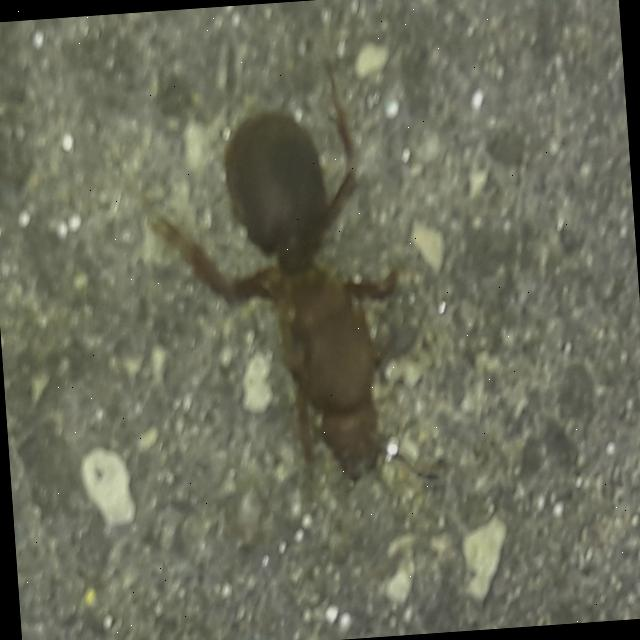Alive-Female-Dealate: (134, 50, 443, 547)
